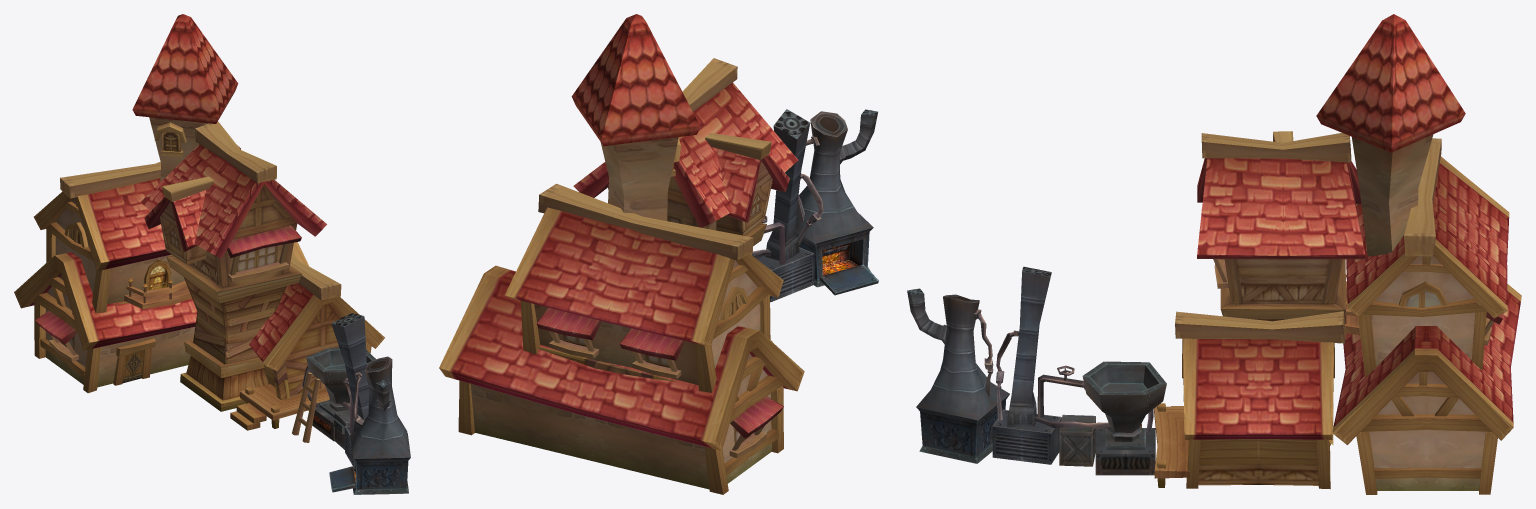
The model's file is Zhongxinmingju1.FBX.
3 renders of one model, left to right at view 1: azimuth 30°, elevation 25°; view 2: azimuth 150°, elevation 25°; view 3: azimuth 270°, elevation 25°, orthographic. The views are drawn at different scales.
Parts seen in each view (by area): view 1: Zhongxinmingju1; view 2: Zhongxinmingju1; view 3: Zhongxinmingju1.
Part boxes in pixels (<box>): Zhongxinmingju1: <box>14,14,410,494</box>; Zhongxinmingju1: <box>439,14,878,494</box>; Zhongxinmingju1: <box>907,14,1521,494</box>.
Size of what is drawn, in the model's own units: 14.91 by 20.77 by 27.44.
3 materials, 3 textured.
